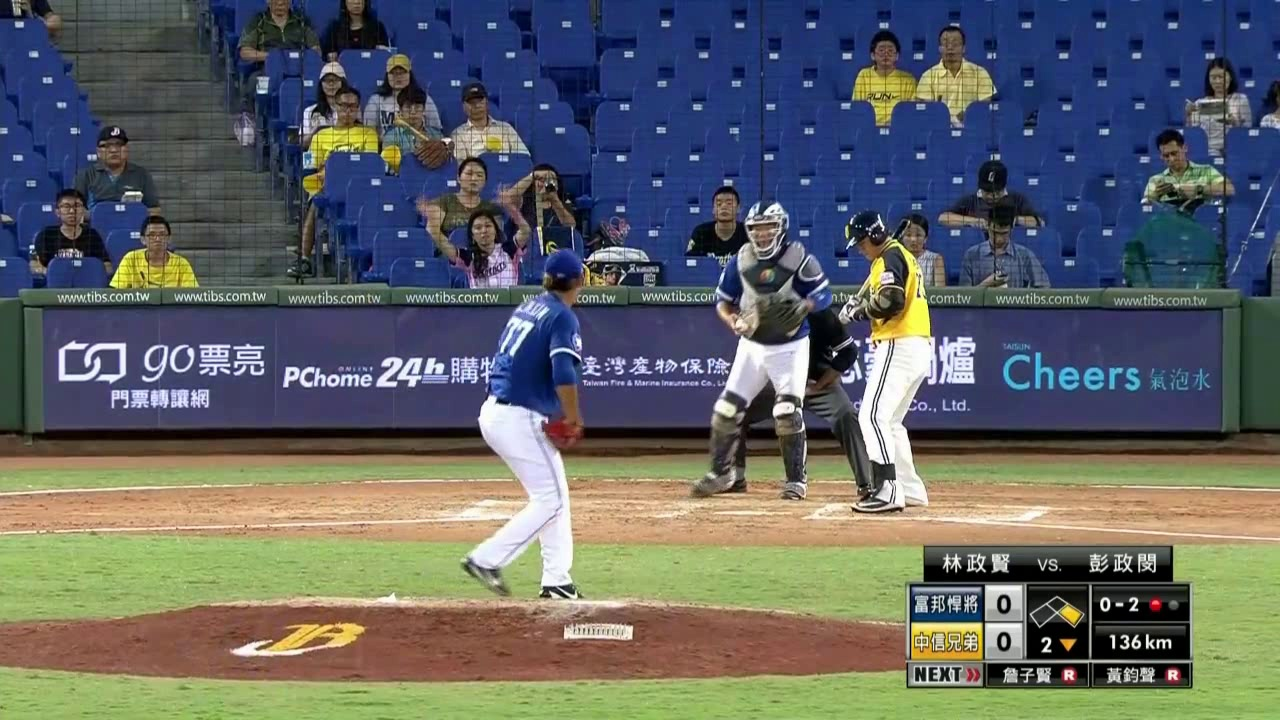ball: (733, 315, 750, 332)
base: (1026, 594, 1086, 630)
bat: (847, 216, 913, 313)
out: (1146, 589, 1187, 621)
score1: (986, 587, 1022, 617)
score2: (987, 625, 1021, 655)
session: (1028, 630, 1086, 657)
speed: (1095, 629, 1182, 658)
strikeball: (1094, 589, 1142, 622)
